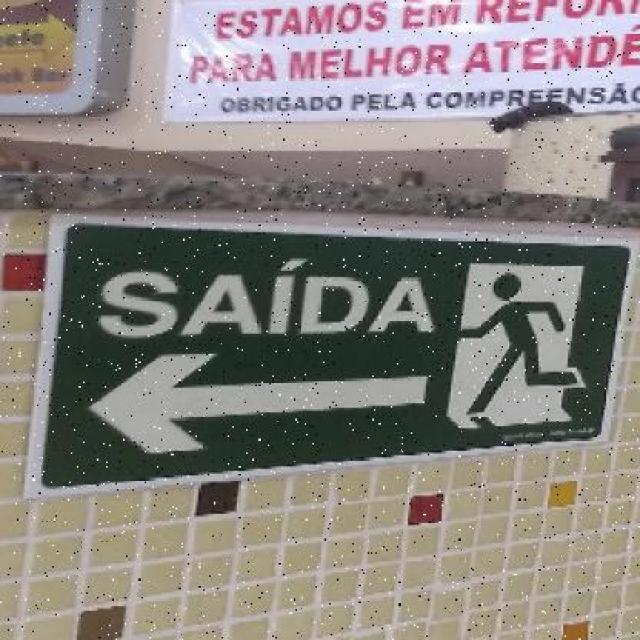emergency_exit: (25, 216, 632, 499), (160, 0, 639, 125)
